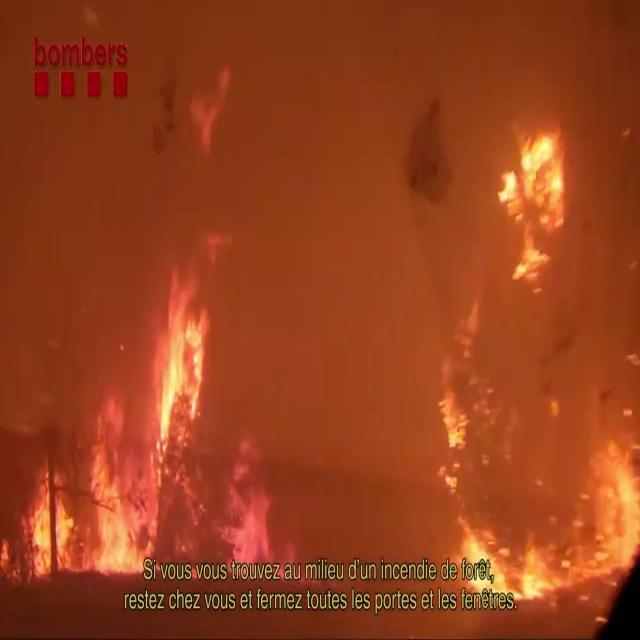Fire: (460, 396, 640, 618), (16, 400, 158, 586), (494, 120, 570, 294), (150, 260, 216, 458)
Smoke: (4, 2, 640, 428)
